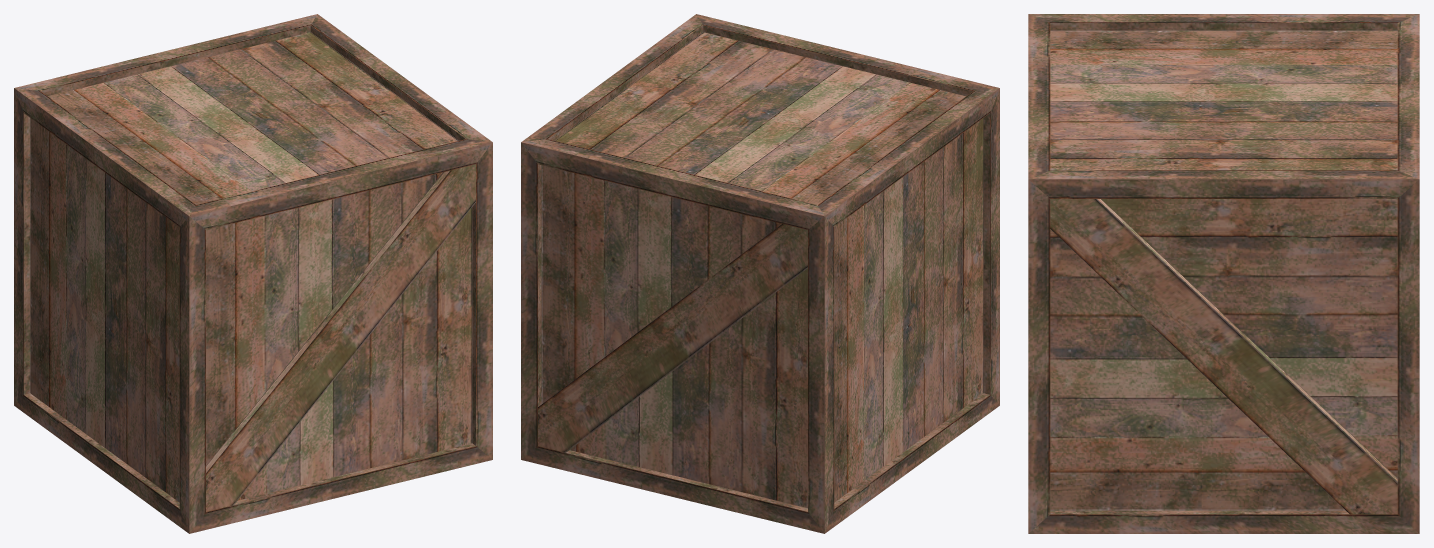
File: Model_Crate_13.fbx
3 views of the same model, side by side, from view 1: azimuth 30°, elevation 25°; view 2: azimuth 150°, elevation 25°; view 3: azimuth 270°, elevation 25° (orthographic). The views are drawn at different scales.
Parts seen in each view (by area): view 1: Crate_13; view 2: Crate_13; view 3: Crate_13.
Boxes of the visible parts, x1,y1,x2,y2 form: Crate_13: (14, 14, 492, 533); Crate_13: (521, 14, 999, 533); Crate_13: (1028, 14, 1419, 533).
Size of the model in its own units: 100 by 100 by 100.
